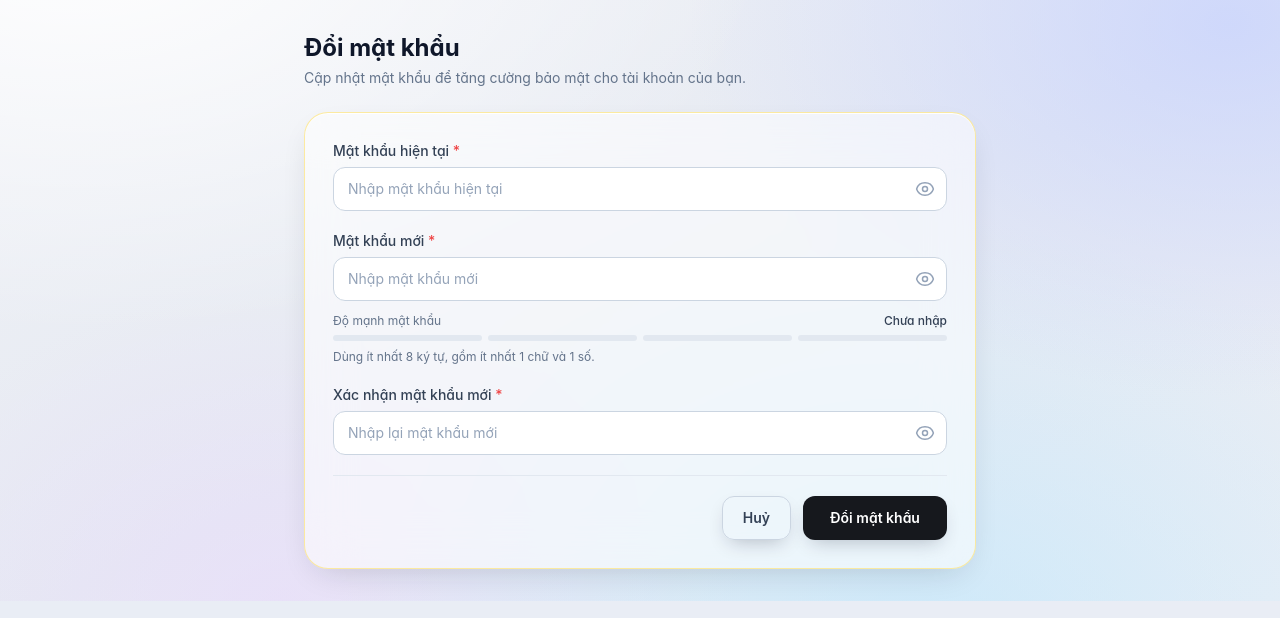
Test: ChangePasswordPage › hiển thị đủ 3 ô mật khẩu và cập nhật thanh đo độ mạnh
Check: the password field labelled "Mật khẩu hiện tại *" is shown, box [333,167,947,211]
Check: the password field labelled "Xác nhận mật khẩu mới *" is shown, box [333,411,947,455]
Type "MatKhauMoi123!" into the password field labelled "Mật khẩu mới *". click: (640, 279)
box: [333,257,947,301]
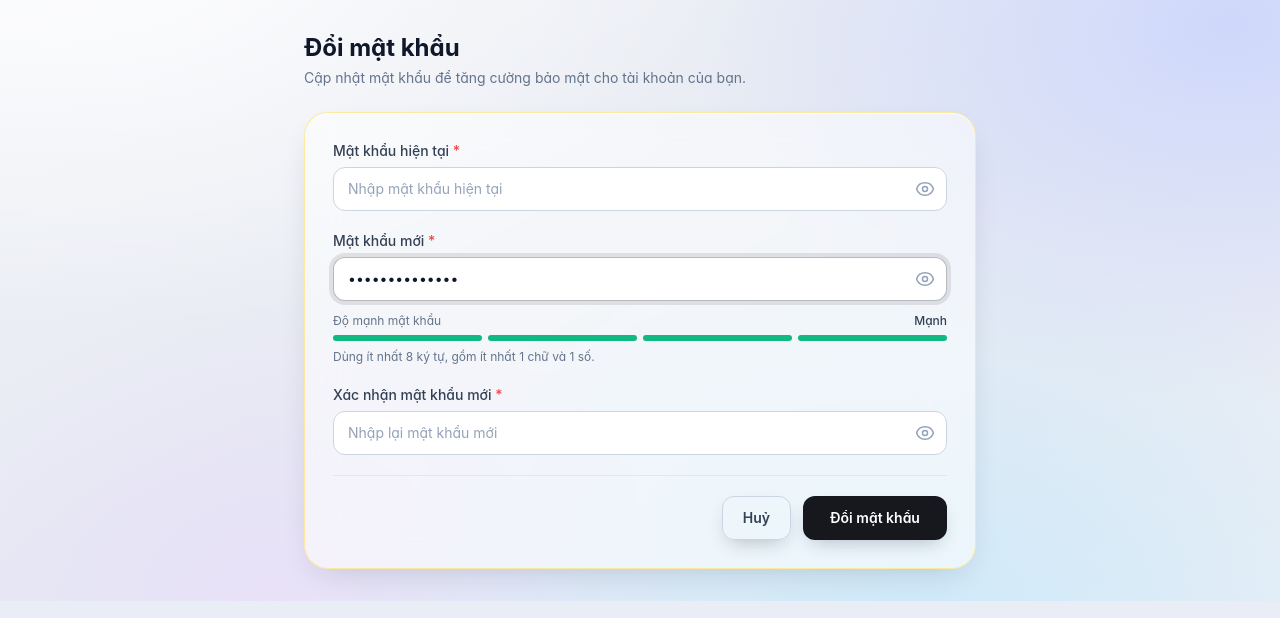
Check: the text "Mạnh" is shown, box [914,313,947,329]
